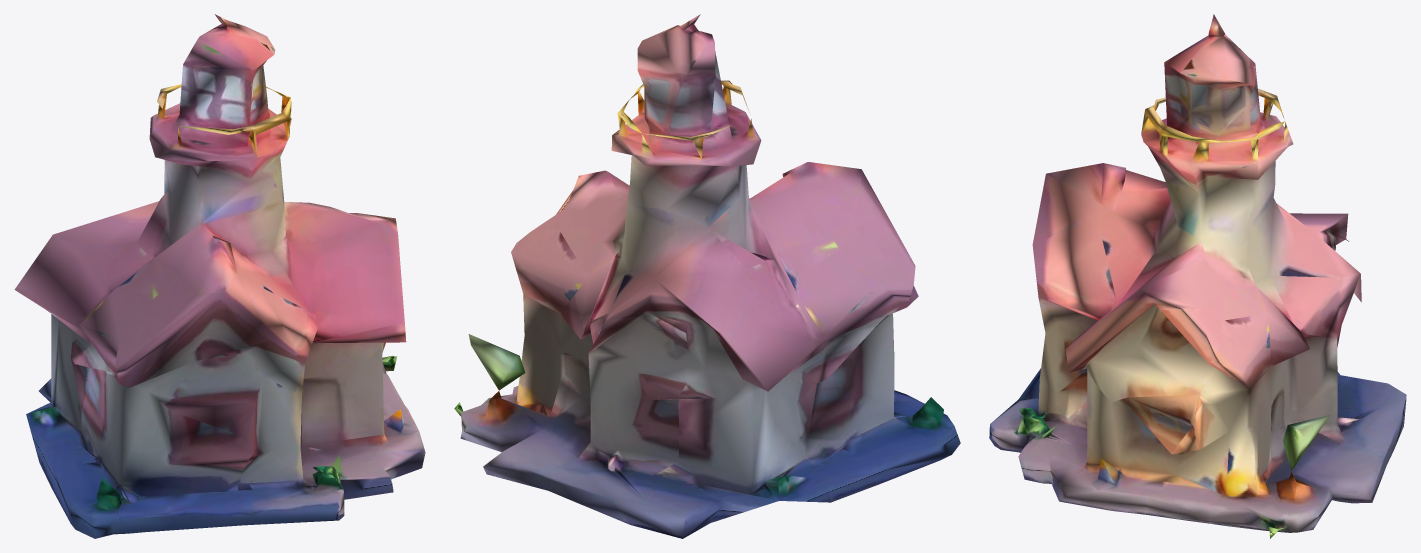
Rendered from house_lighthouse_cottage.glb.
3 renders of one model, left to right at view 1: azimuth 30°, elevation 25°; view 2: azimuth 150°, elevation 25°; view 3: azimuth 270°, elevation 25°, orthographic. The views are drawn at different scales.
Parts seen in each view (by area): view 1: tripo_node_7b5ab34d-4655-463f-8583-df9d0c89181c; view 2: tripo_node_7b5ab34d-4655-463f-8583-df9d0c89181c; view 3: tripo_node_7b5ab34d-4655-463f-8583-df9d0c89181c.
Part boxes in pixels (left/top/right/bottom): tripo_node_7b5ab34d-4655-463f-8583-df9d0c89181c: left=14, top=14, right=425, bottom=538; tripo_node_7b5ab34d-4655-463f-8583-df9d0c89181c: left=454, top=14, right=960, bottom=538; tripo_node_7b5ab34d-4655-463f-8583-df9d0c89181c: left=989, top=14, right=1406, bottom=538.
Bounding box in the file's own units: 0.9456 × 0.9586 × 0.8518.
Materials: 1 (1 with a texture image).
